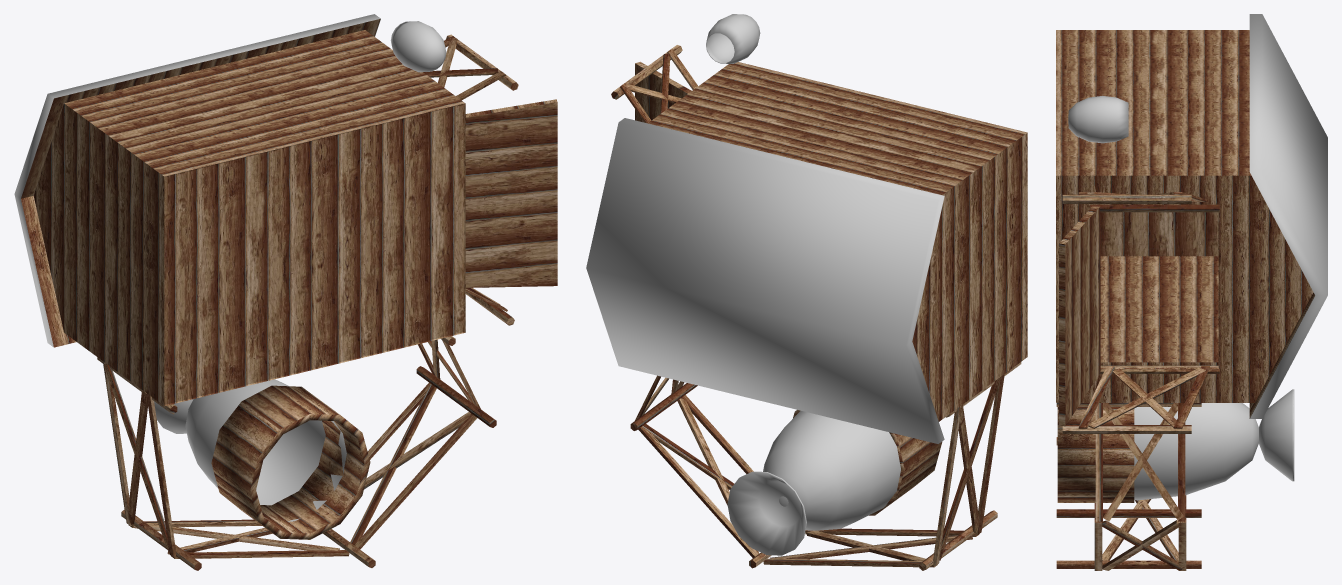
File: stables.fbx
3 views of the same model, side by side, from view 1: azimuth 30°, elevation 25°; view 2: azimuth 150°, elevation 25°; view 3: azimuth 270°, elevation 25° (orthographic). The views are drawn at different scales.
Visible parts, largest first — view 1: Stables; view 2: Stables; view 3: Stables.
Boxes of the visible parts, x1,y1,x2,y2 form: Stables: (14, 14, 557, 570); Stables: (586, 14, 1027, 570); Stables: (1056, 14, 1327, 570).
Bounding box in the file's own units: 16.31 × 19.41 × 9.46.
